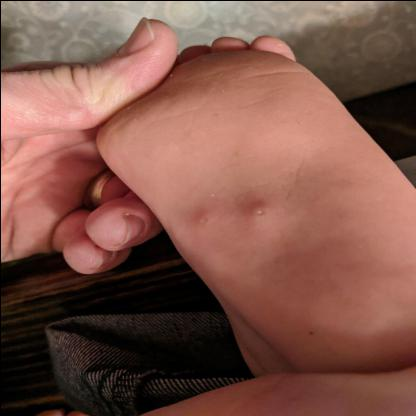Fire ant: (116, 230, 241, 263)
